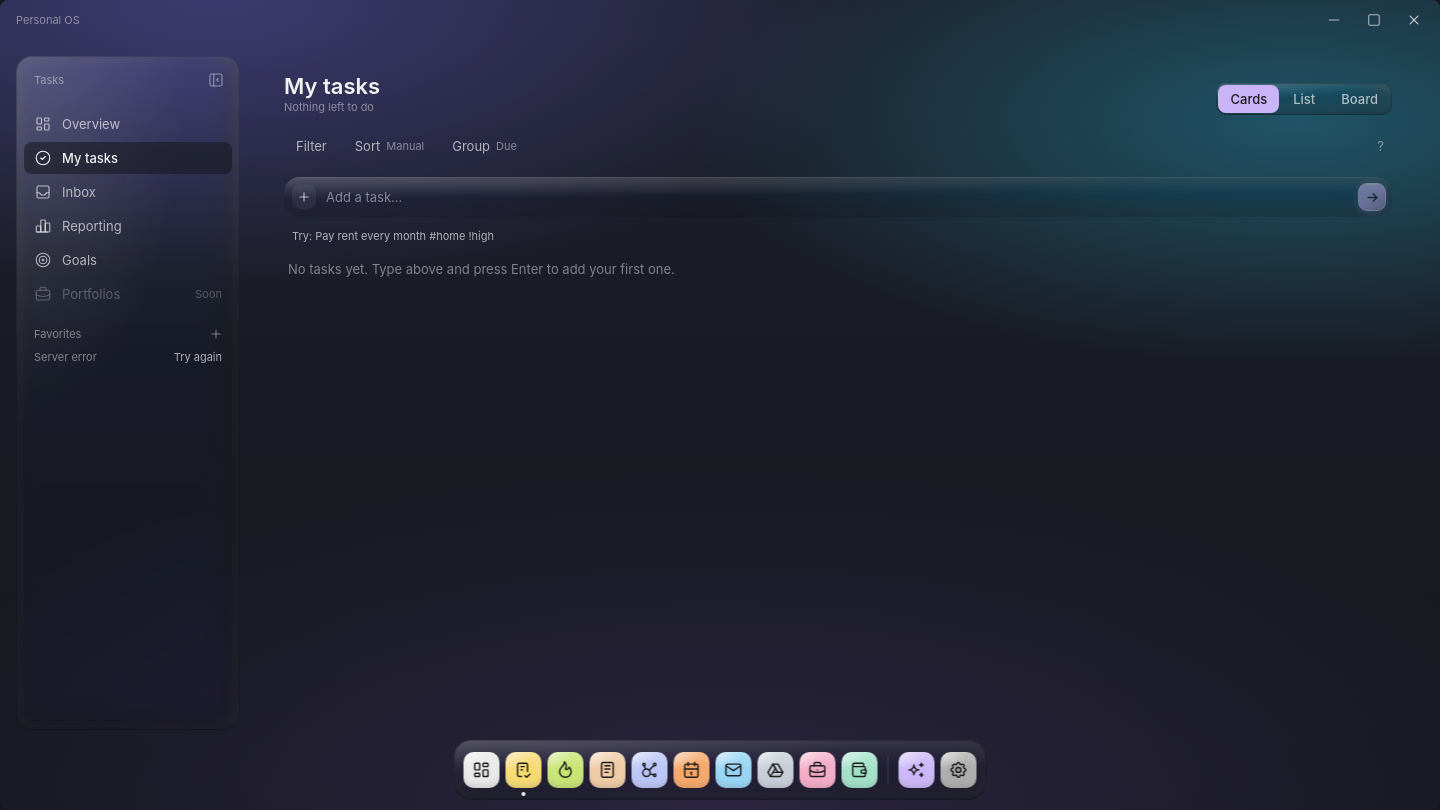
Test: the Favorites list in the side panel › says it could not load, with the server message, and loads again on Try again
Check: the text "Server error" is shown, box [34,350,97,365]
Step 1. Click the button "Try again" → (198, 358), box [168,348,228,367]
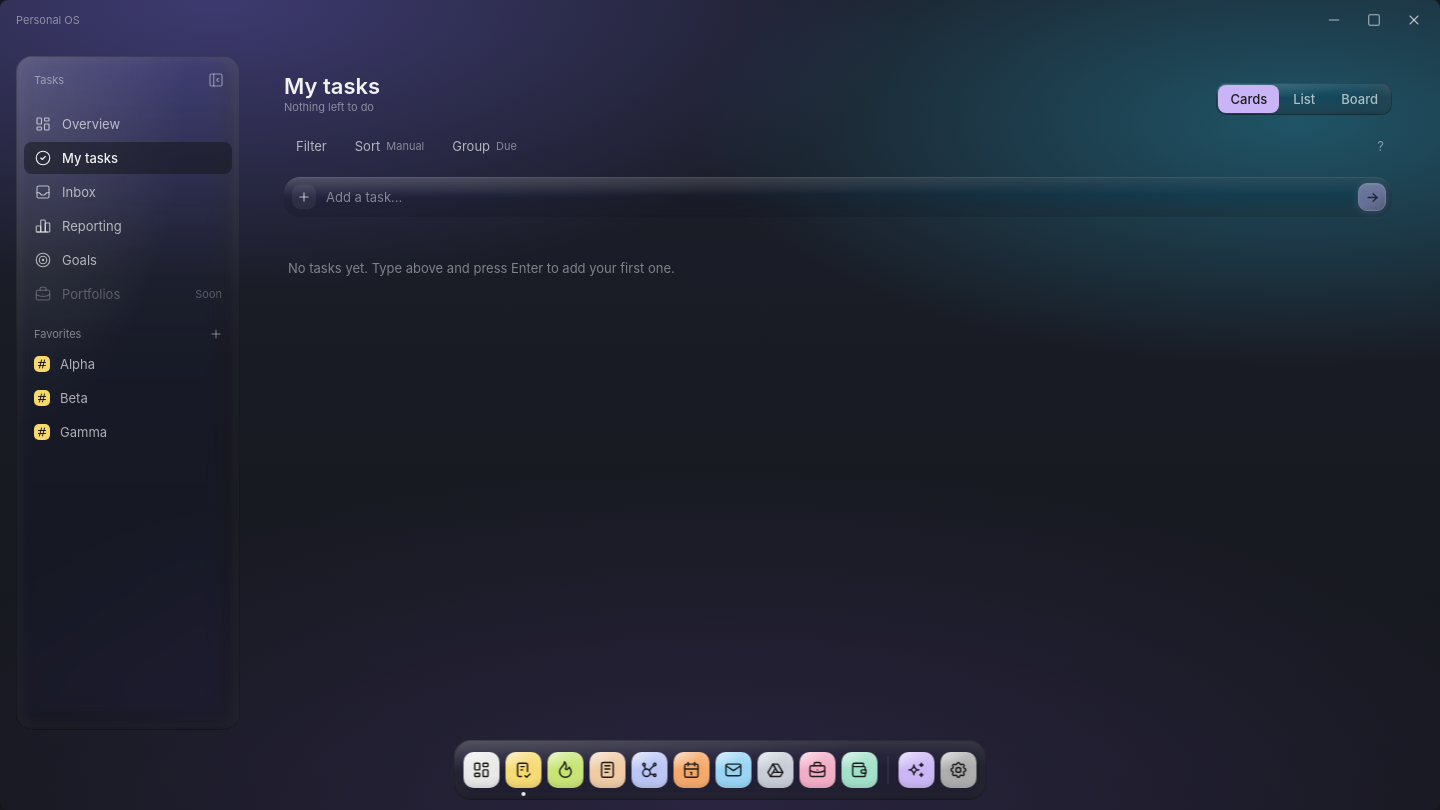
Check: the link "Alpha" is shown, box [34,356,95,372]
Check: the text "Server error" is gone
